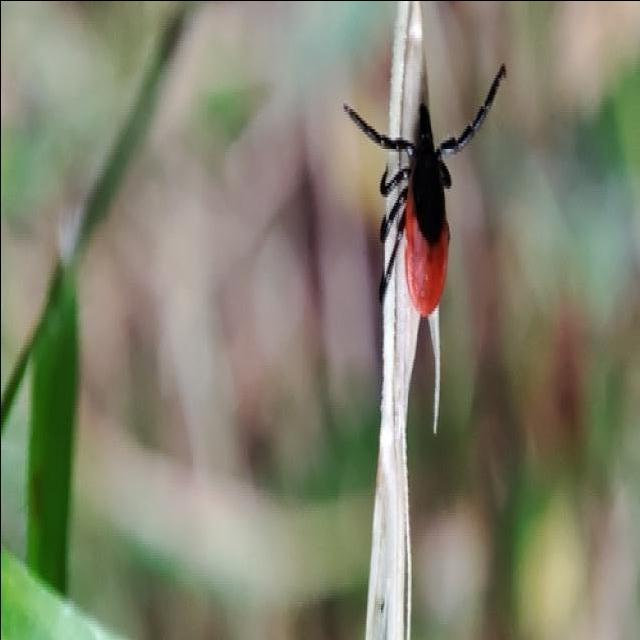Ixodes Ricinus-F: (343, 63, 507, 316)
